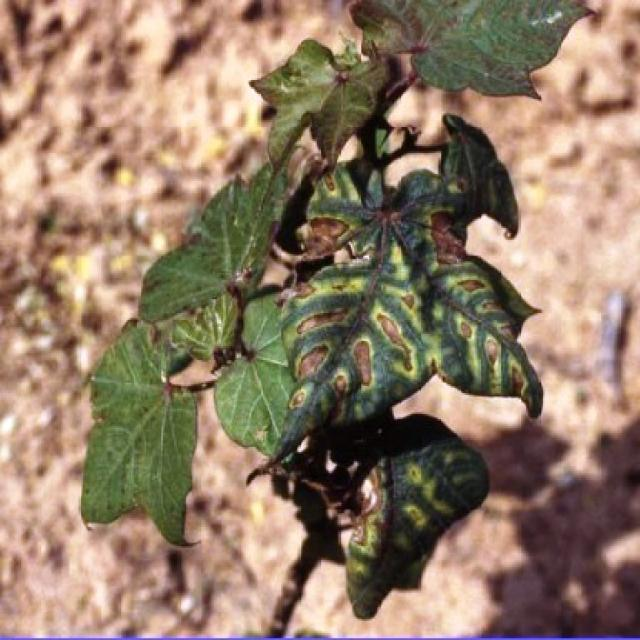Fusarium Wilt: (143, 9, 552, 590)
